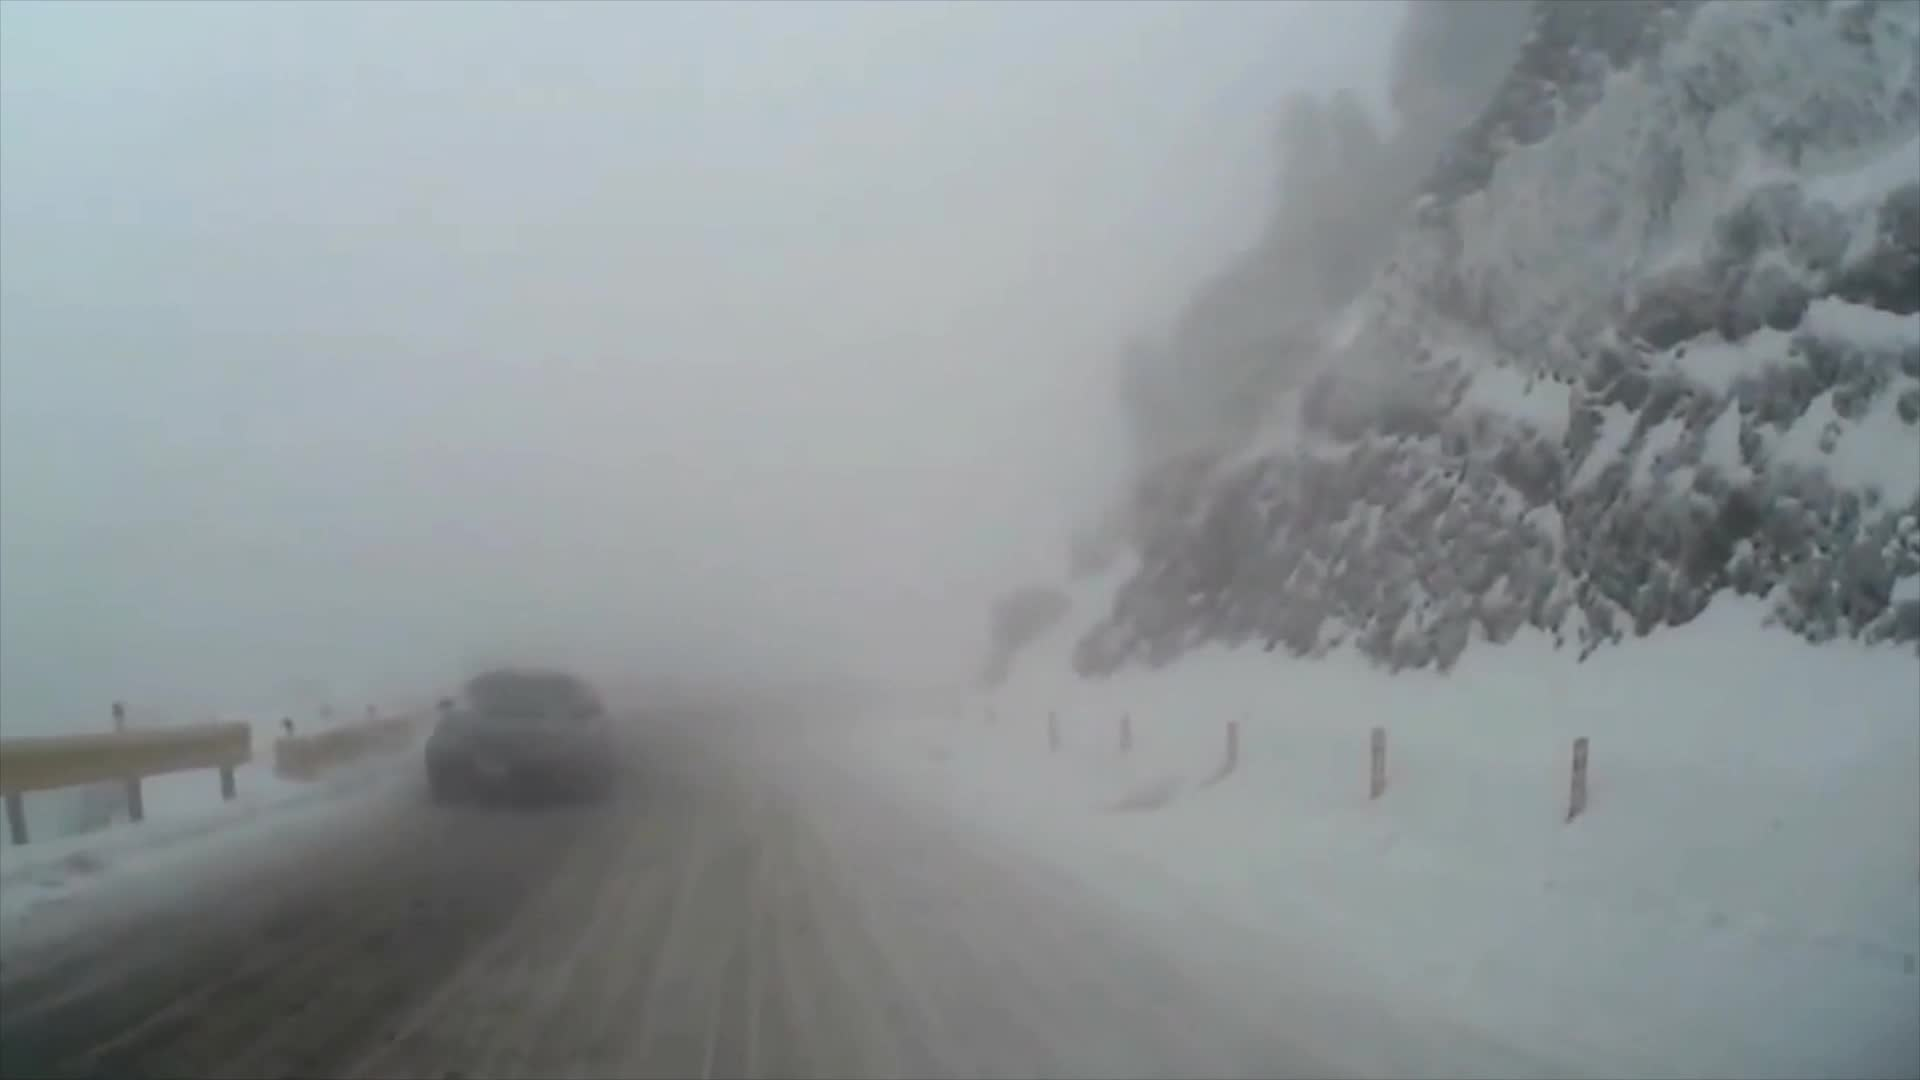vehicle: (421, 669, 612, 810)
